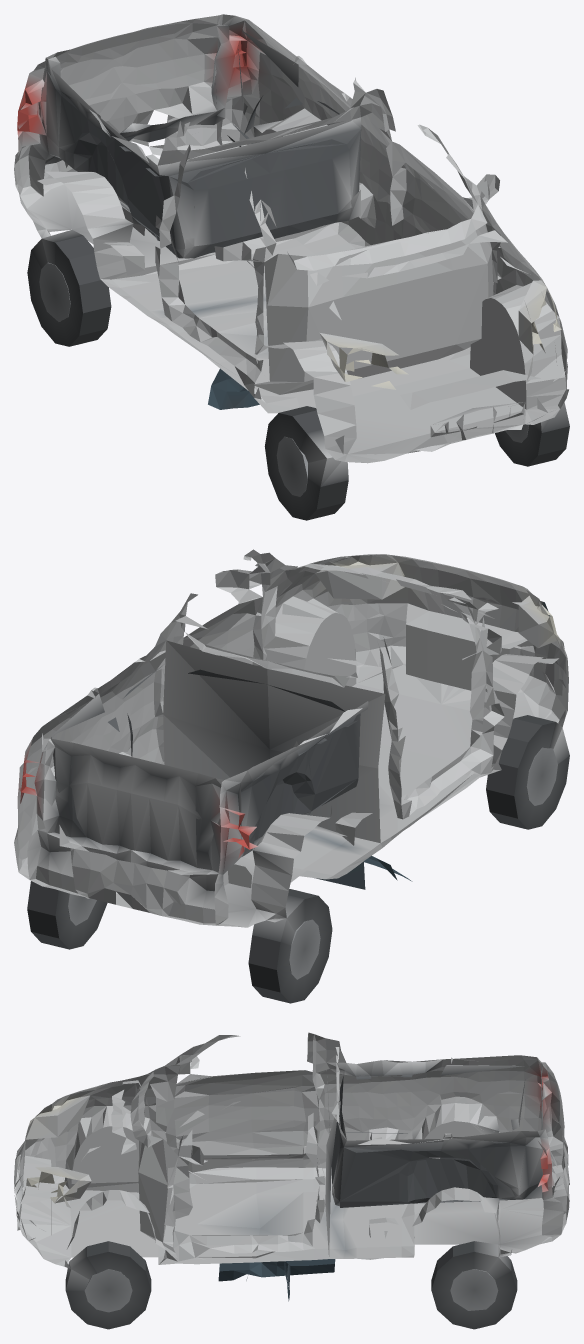
The model's file is vw-lite.glb.
The picture shows the model from 3 angles, top to bottom: view 1: azimuth 30°, elevation 25°; view 2: azimuth 150°, elevation 25°; view 3: azimuth 270°, elevation 25°; orthographic projection. The views are drawn at different scales.
Visible parts, largest first — view 1: world; view 2: world; view 3: world.
Boxes of the visible parts, <box> form: world: <box>14,14,569,520</box>; world: <box>14,549,569,1003</box>; world: <box>14,1032,569,1329</box>.
Bounding box in the file's own units: 2 × 1.9 × 4.41.
